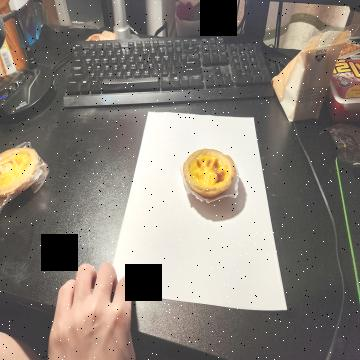EggTart: (183, 147, 236, 200)
